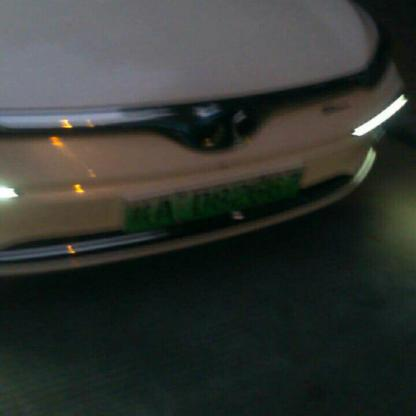lp: (123, 165, 302, 231)
